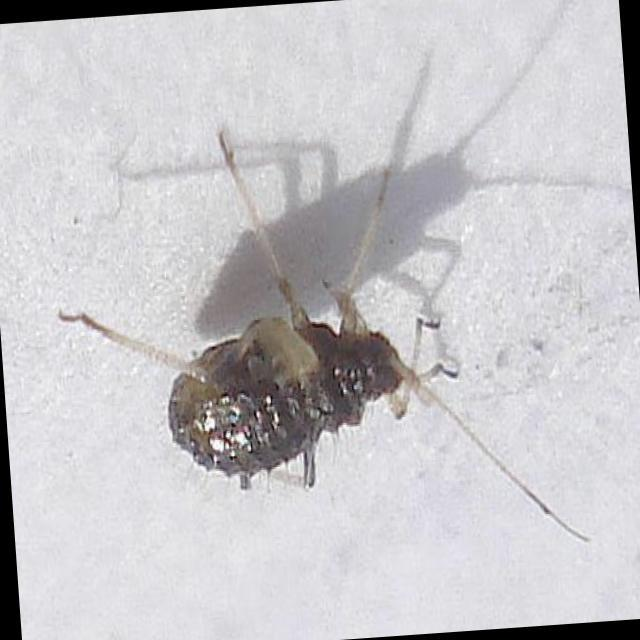aphid: (46, 109, 555, 556)
